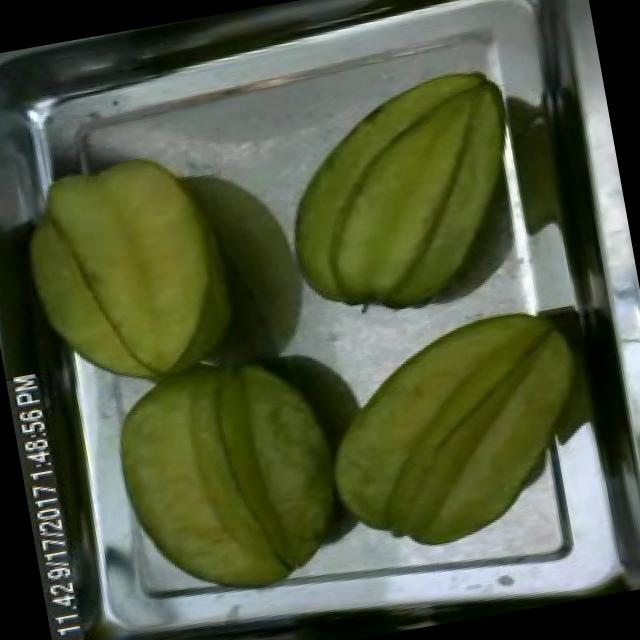fruit: (298, 289, 618, 574), (253, 50, 542, 338), (92, 332, 368, 620), (0, 123, 257, 415)
